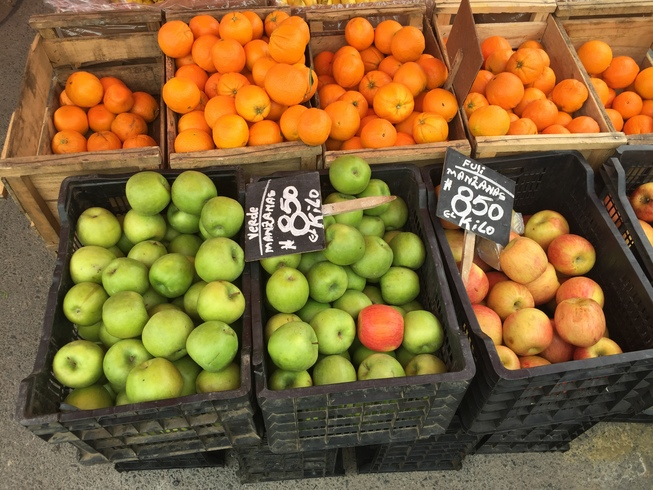precio: (429, 144, 529, 256), (234, 166, 336, 268)
